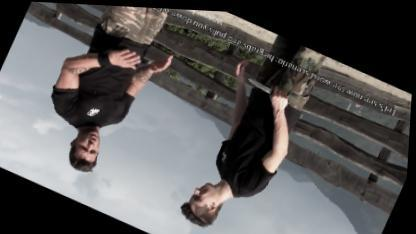knife: (242, 70, 296, 105)
